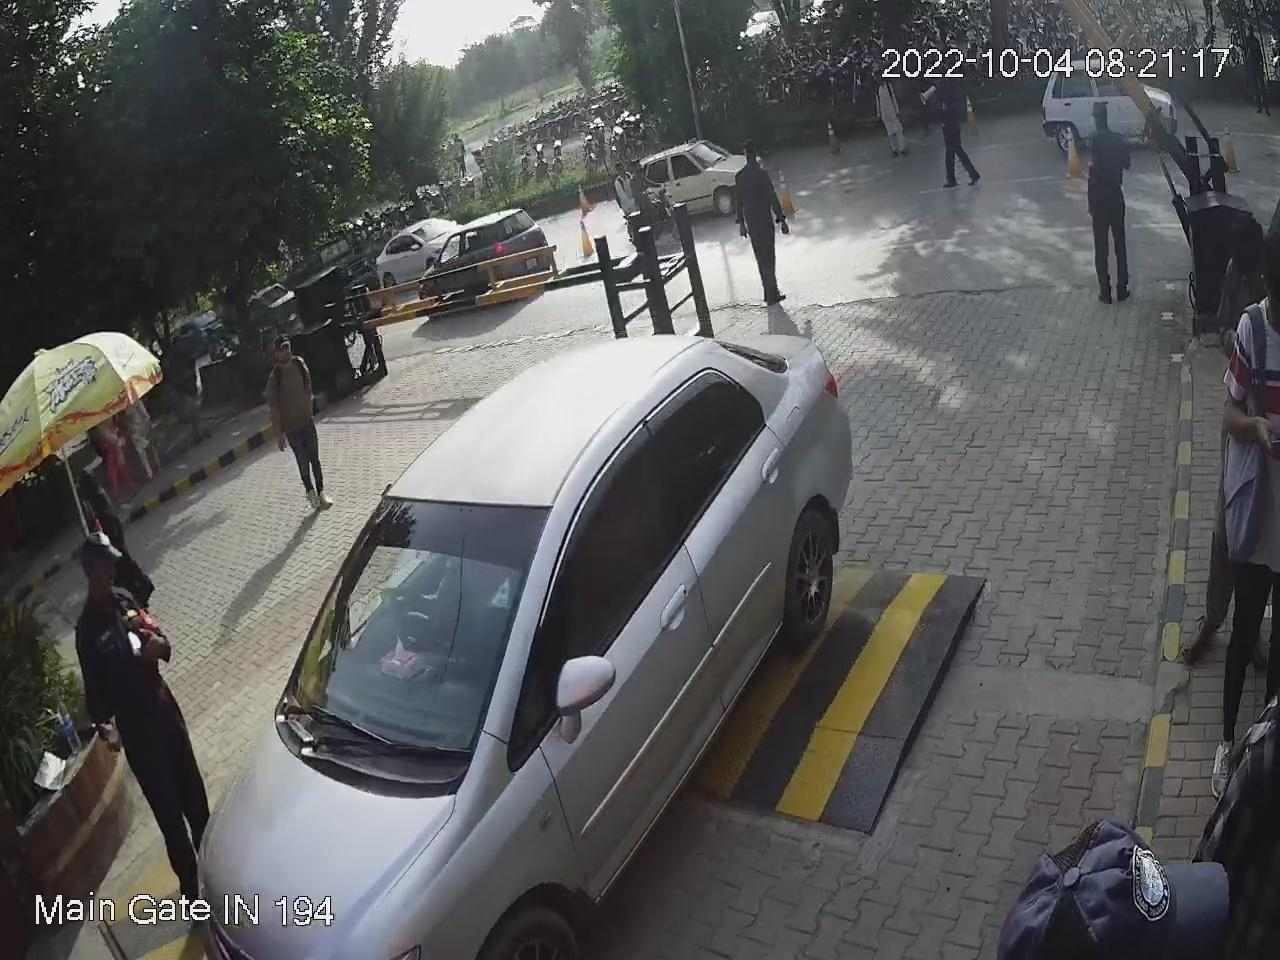windshield: (270, 500, 568, 803)
